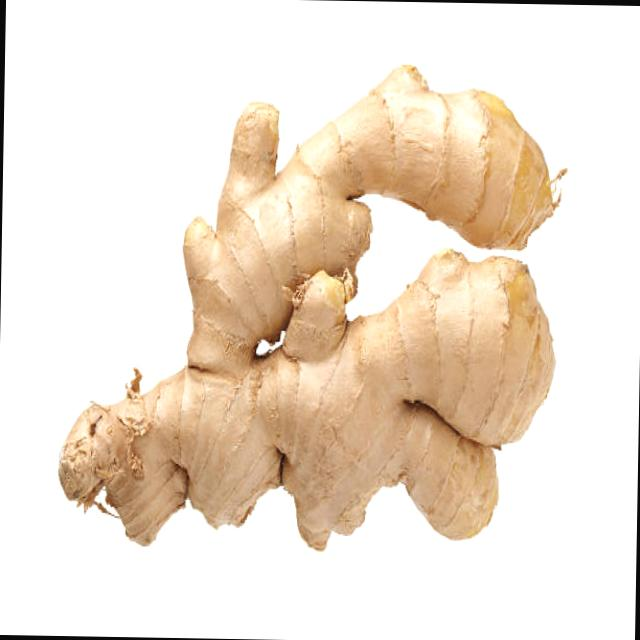ginger-root: (54, 53, 576, 585)
